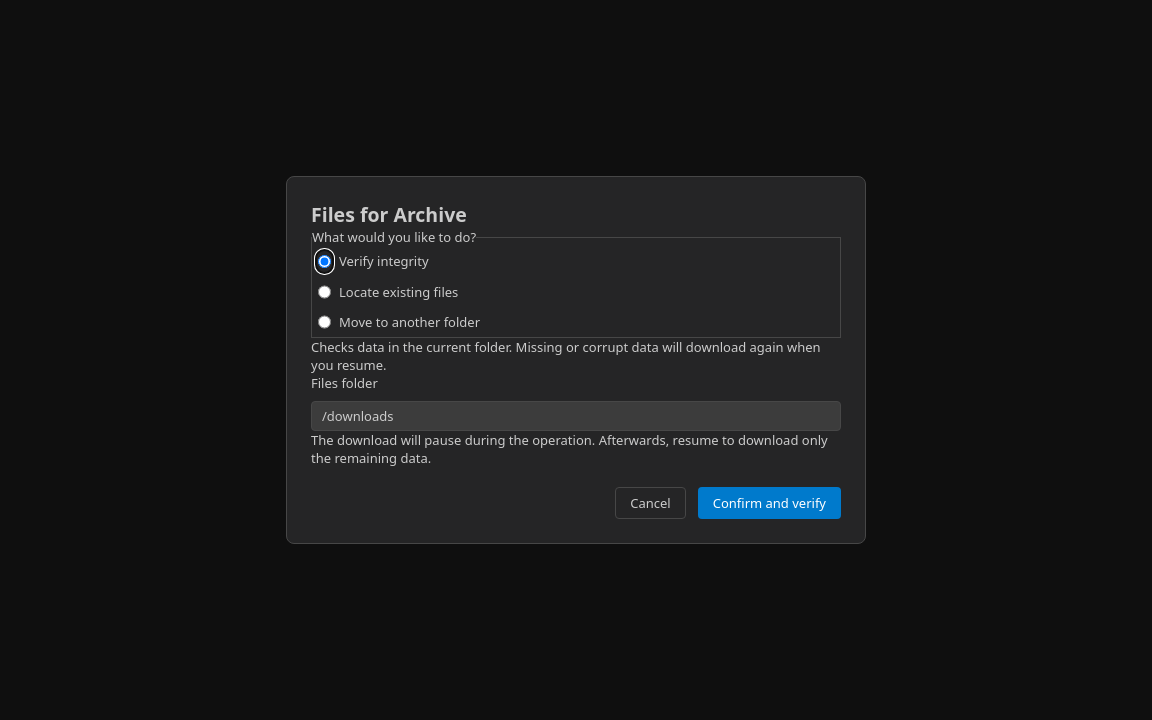
Test case: conflito em movimento mantém o diálogo aberto com erro traduzido
Click the radio button labelled "Move to another folder" at (324, 322), box [318,313,331,331]
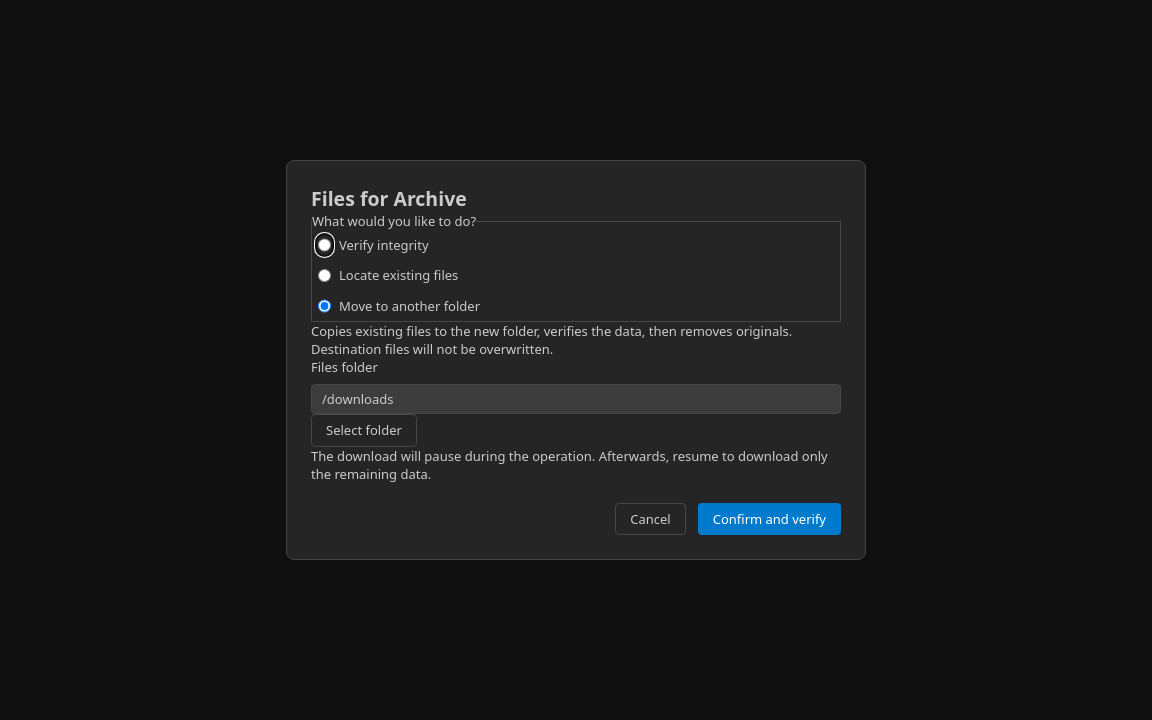
Click the button "Confirm and verify" at (769, 519), box [698,503,841,535]
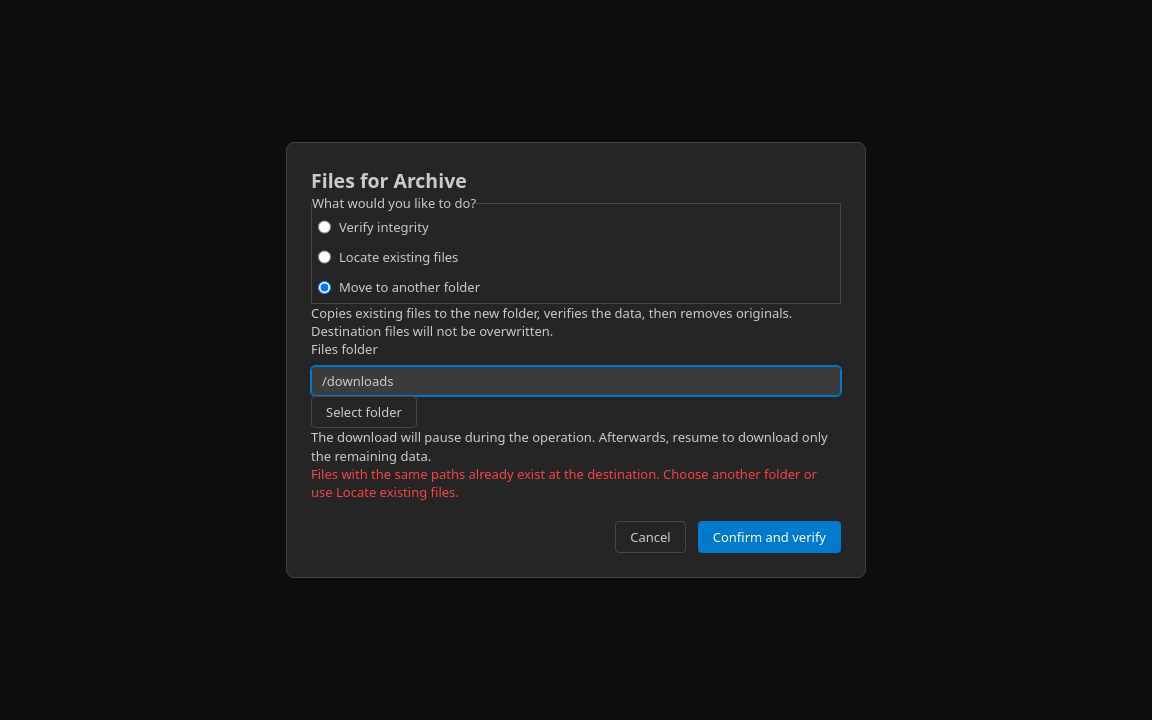
Expected: the dialog is shown, [286,142,866,578]
Expected: the message shows "destination", [311,465,817,501]
